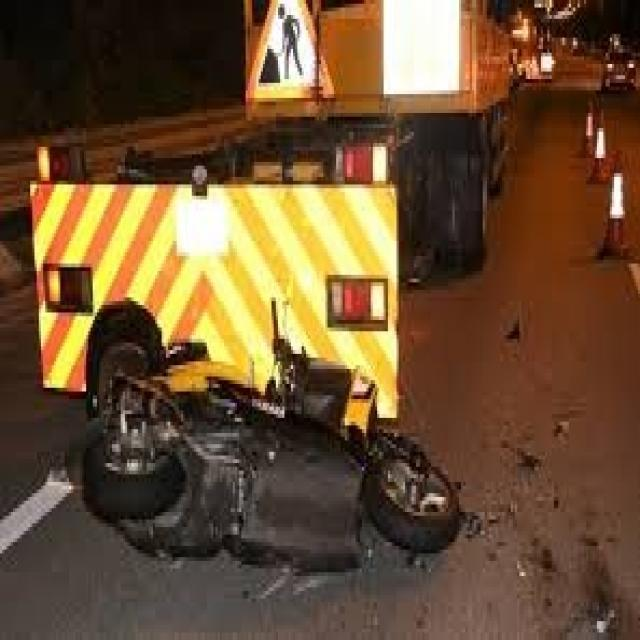accident: (74, 327, 480, 613)
